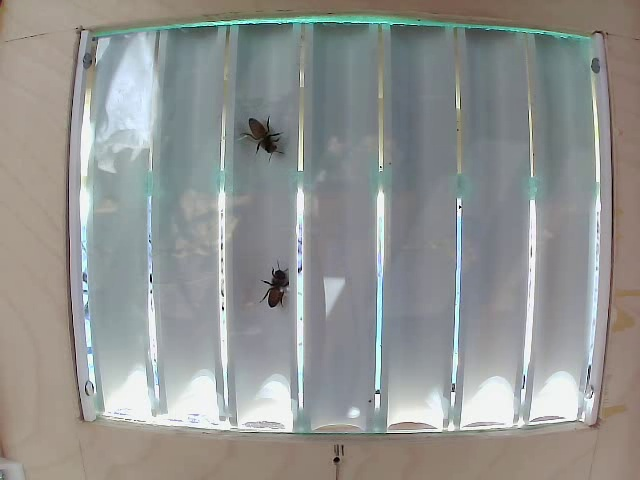bee: (257, 257, 297, 320), (239, 105, 273, 159)
